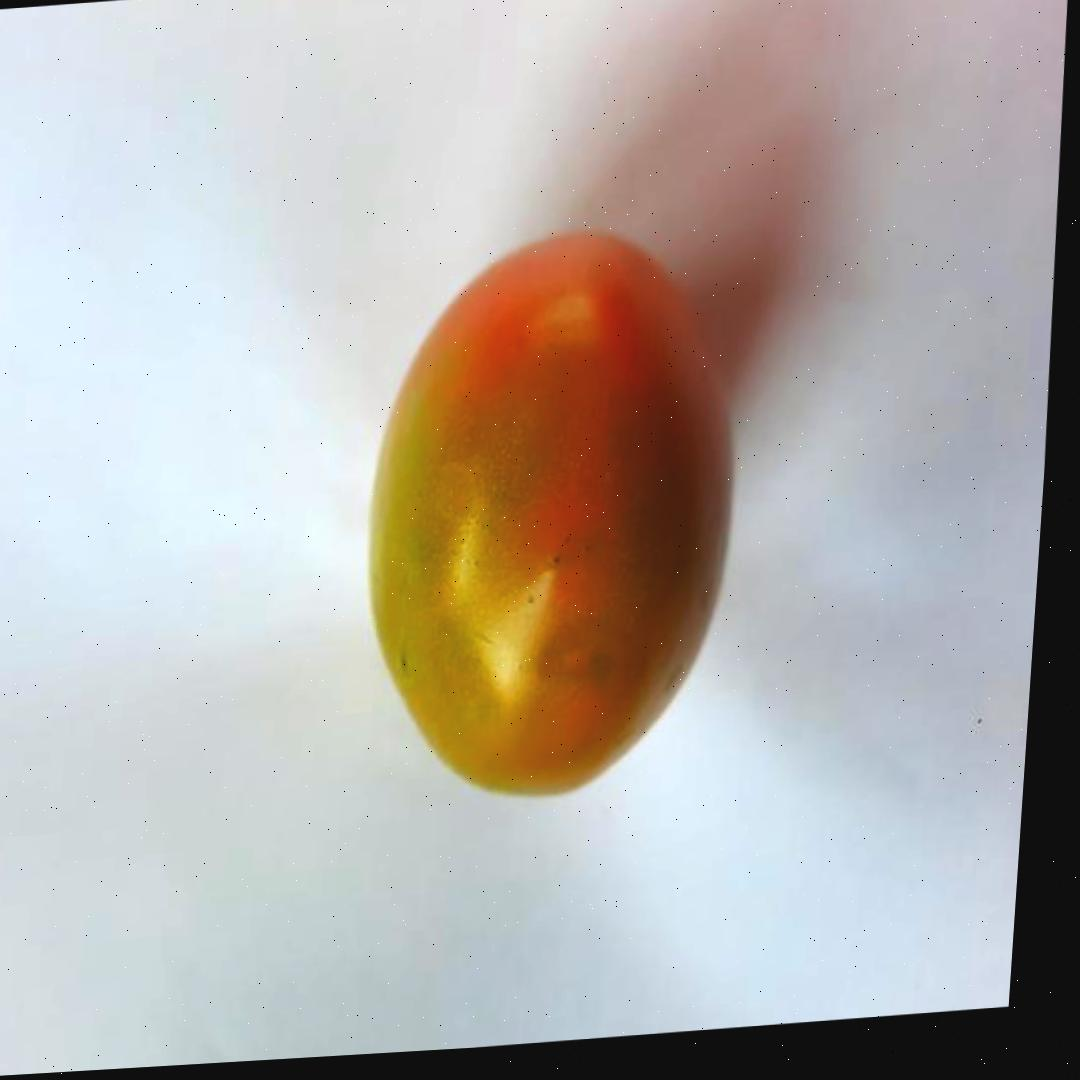setengah_matang: (336, 209, 765, 823)
